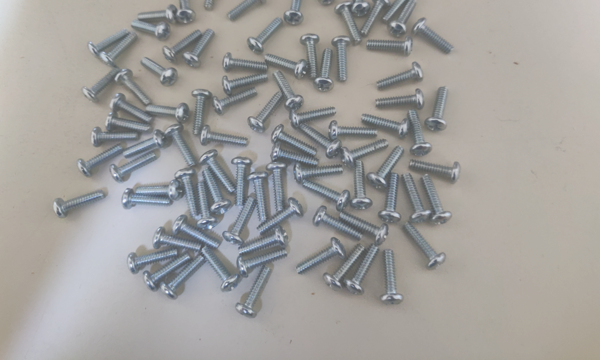shortscrew: (403, 221, 447, 271), (159, 255, 207, 300), (324, 244, 367, 293), (296, 238, 347, 277), (143, 253, 192, 293), (236, 266, 271, 319), (257, 198, 304, 237), (337, 212, 390, 246), (344, 245, 379, 296), (313, 206, 364, 241), (172, 215, 222, 250), (202, 246, 239, 293), (420, 174, 453, 226), (199, 150, 237, 194), (223, 197, 257, 246), (77, 144, 125, 178), (412, 17, 455, 54), (239, 226, 288, 258), (402, 173, 432, 225), (247, 92, 284, 134), (53, 190, 106, 219), (237, 248, 288, 278), (109, 152, 158, 183), (271, 124, 317, 157), (301, 124, 343, 160), (341, 139, 390, 169), (99, 32, 138, 69), (165, 124, 197, 168), (115, 69, 152, 107), (376, 61, 424, 90), (247, 18, 284, 55), (82, 68, 121, 103), (273, 70, 304, 114), (380, 250, 404, 306), (212, 87, 258, 116), (163, 30, 203, 63), (111, 94, 153, 125), (128, 248, 178, 274), (405, 109, 432, 157), (123, 130, 166, 160), (203, 168, 231, 214), (183, 28, 215, 68), (410, 160, 461, 185), (88, 28, 130, 58), (361, 112, 411, 137), (152, 227, 203, 251), (335, 1, 363, 44), (350, 161, 374, 210), (379, 173, 402, 224), (271, 142, 319, 166), (329, 120, 379, 143), (140, 57, 178, 87), (388, 0, 418, 38), (376, 88, 425, 111), (360, 0, 391, 36), (231, 157, 253, 206), (265, 55, 308, 80), (248, 172, 269, 223), (222, 73, 268, 96), (425, 87, 448, 133), (196, 183, 218, 231), (122, 189, 172, 210), (266, 163, 287, 213), (290, 107, 337, 129), (367, 35, 413, 57), (200, 126, 248, 147), (91, 127, 139, 148), (146, 103, 190, 125), (223, 52, 268, 73), (136, 181, 183, 201), (381, 0, 418, 25), (192, 90, 212, 136), (105, 113, 151, 133), (314, 49, 335, 92), (131, 20, 171, 42), (300, 34, 319, 79), (332, 35, 350, 82), (228, 0, 268, 21), (138, 4, 176, 25), (284, 0, 305, 26), (177, 0, 196, 25), (347, 0, 371, 17), (204, 0, 225, 11), (312, 0, 337, 7)
